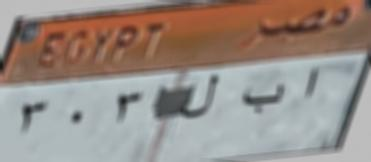0: (67, 107, 86, 129)
3: (15, 100, 50, 136), (112, 90, 145, 124)
alif: (298, 63, 323, 104)
baa: (240, 84, 287, 114)
laam: (179, 69, 220, 122)
